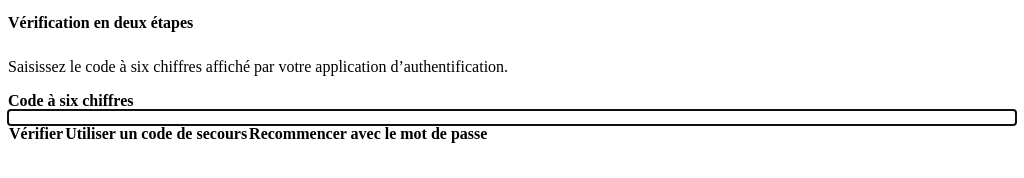
Test case: SecondFactorPage › says a wrong code is wrong, keeps it in the box, and stays on the step
This screenshot has width=1024, height=178.
In the field labelled "Code à six chiffres": [512, 118] box [8,110,1016,125], type "000000"
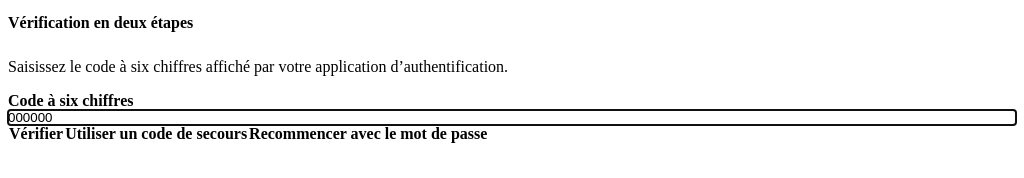
Click the button "Vérifier": [36, 134] box [8,125,64,143]
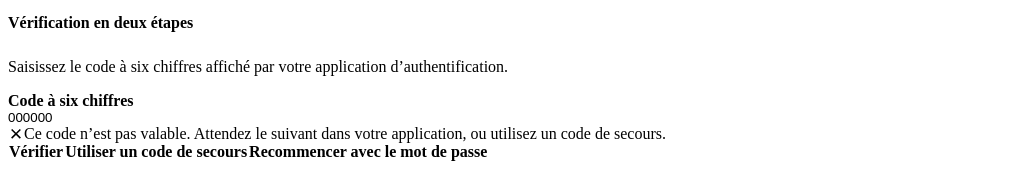
Now the message shows "Ce code n’est pas valable. Attendez le suivant dans votre application, ou utilisez un code de secours.", box [24,125,666,142]
